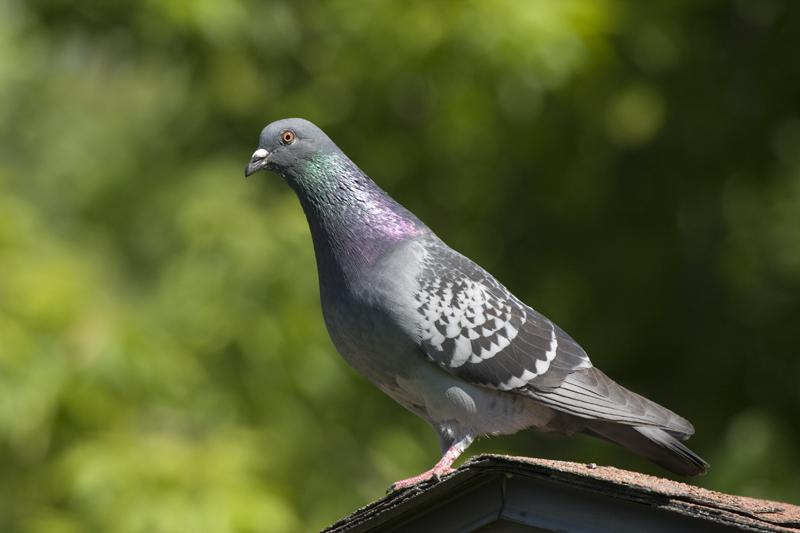Flying Rat: (244, 108, 711, 503)
